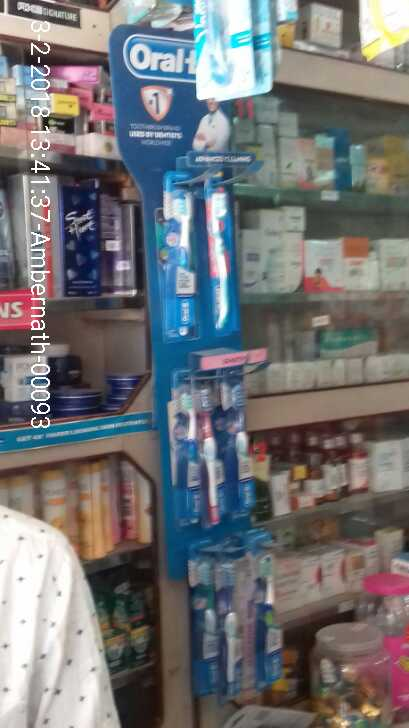oralb: (183, 551, 241, 697), (170, 374, 221, 531), (160, 184, 201, 343), (228, 378, 266, 529), (210, 187, 238, 345), (253, 551, 286, 685)
